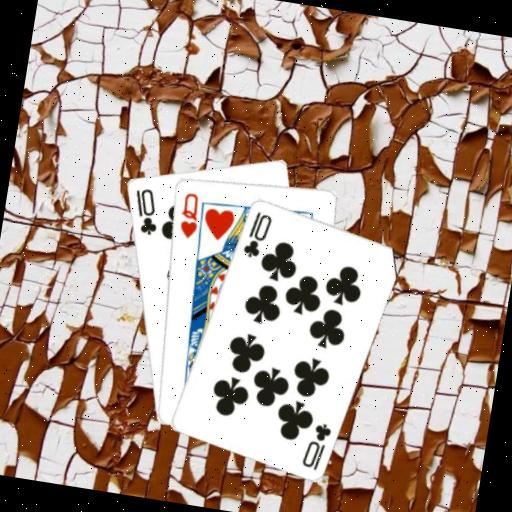10C: (126, 183, 164, 238), (297, 417, 334, 473), (238, 205, 274, 260)
QH: (175, 187, 204, 240)
